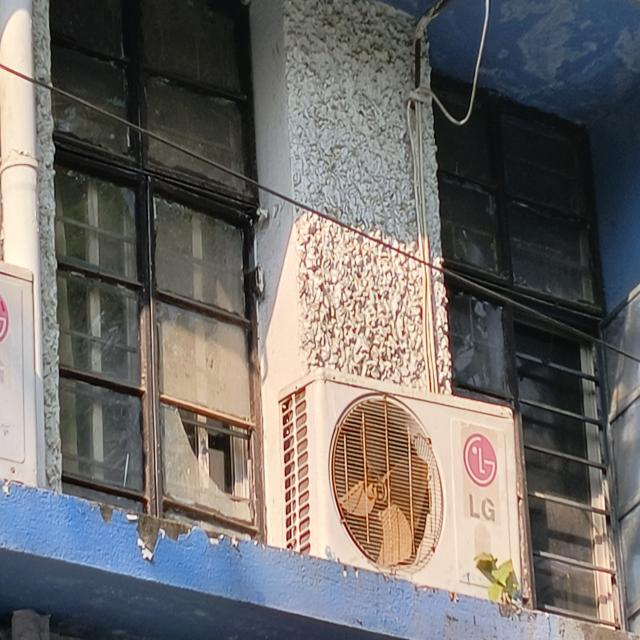Broken window pane: (50, 0, 272, 548)
Paint Peeling: (99, 505, 225, 563)
